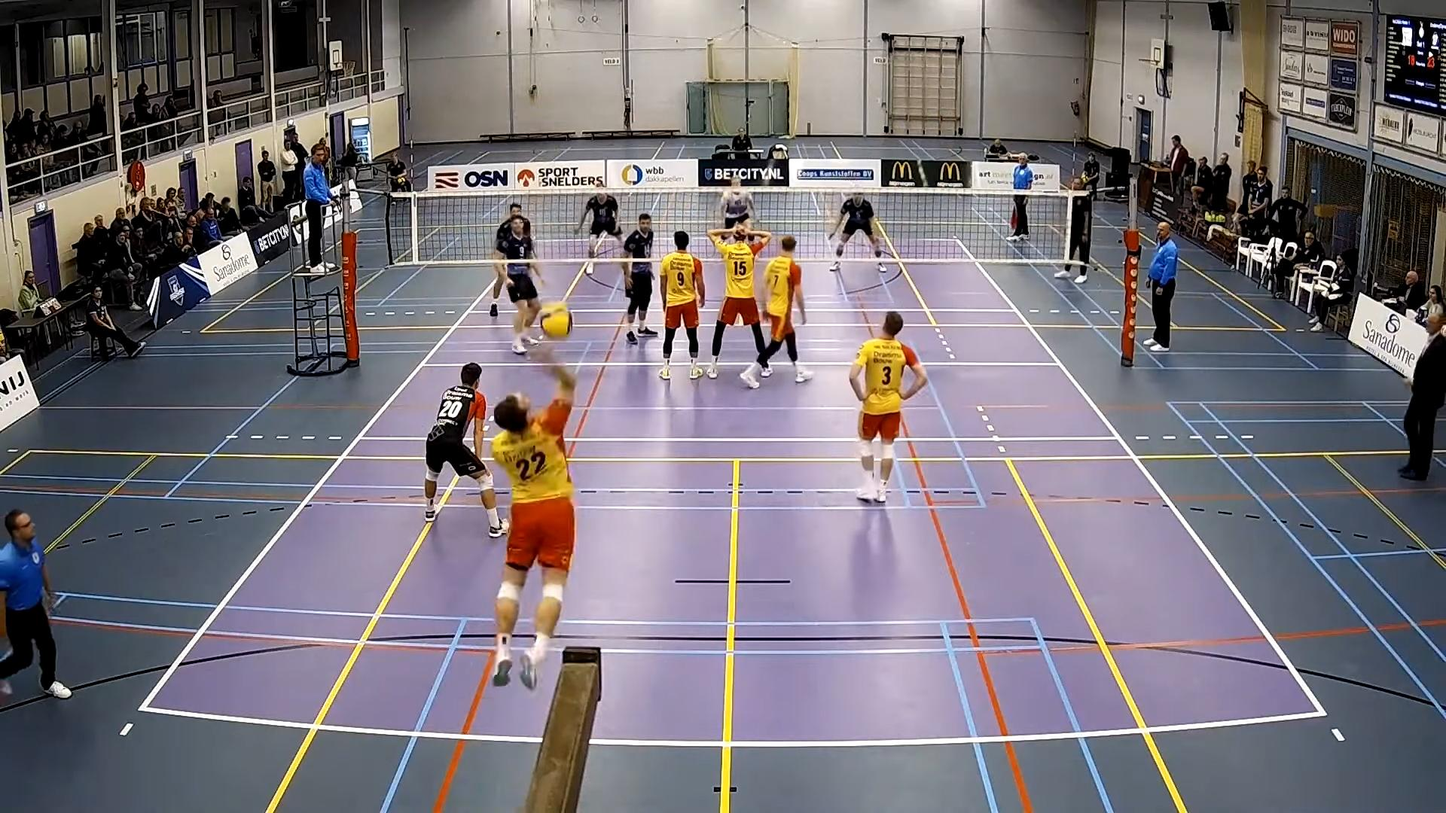battuta: (471, 340, 581, 692)
